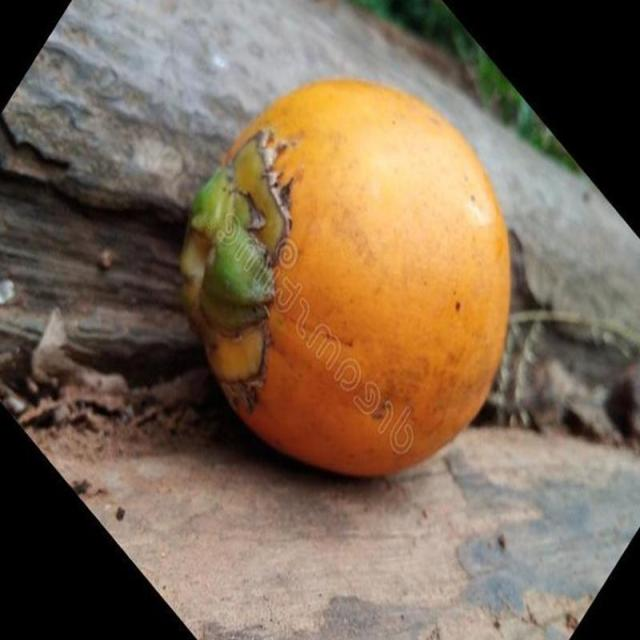good: (180, 79, 512, 480)
